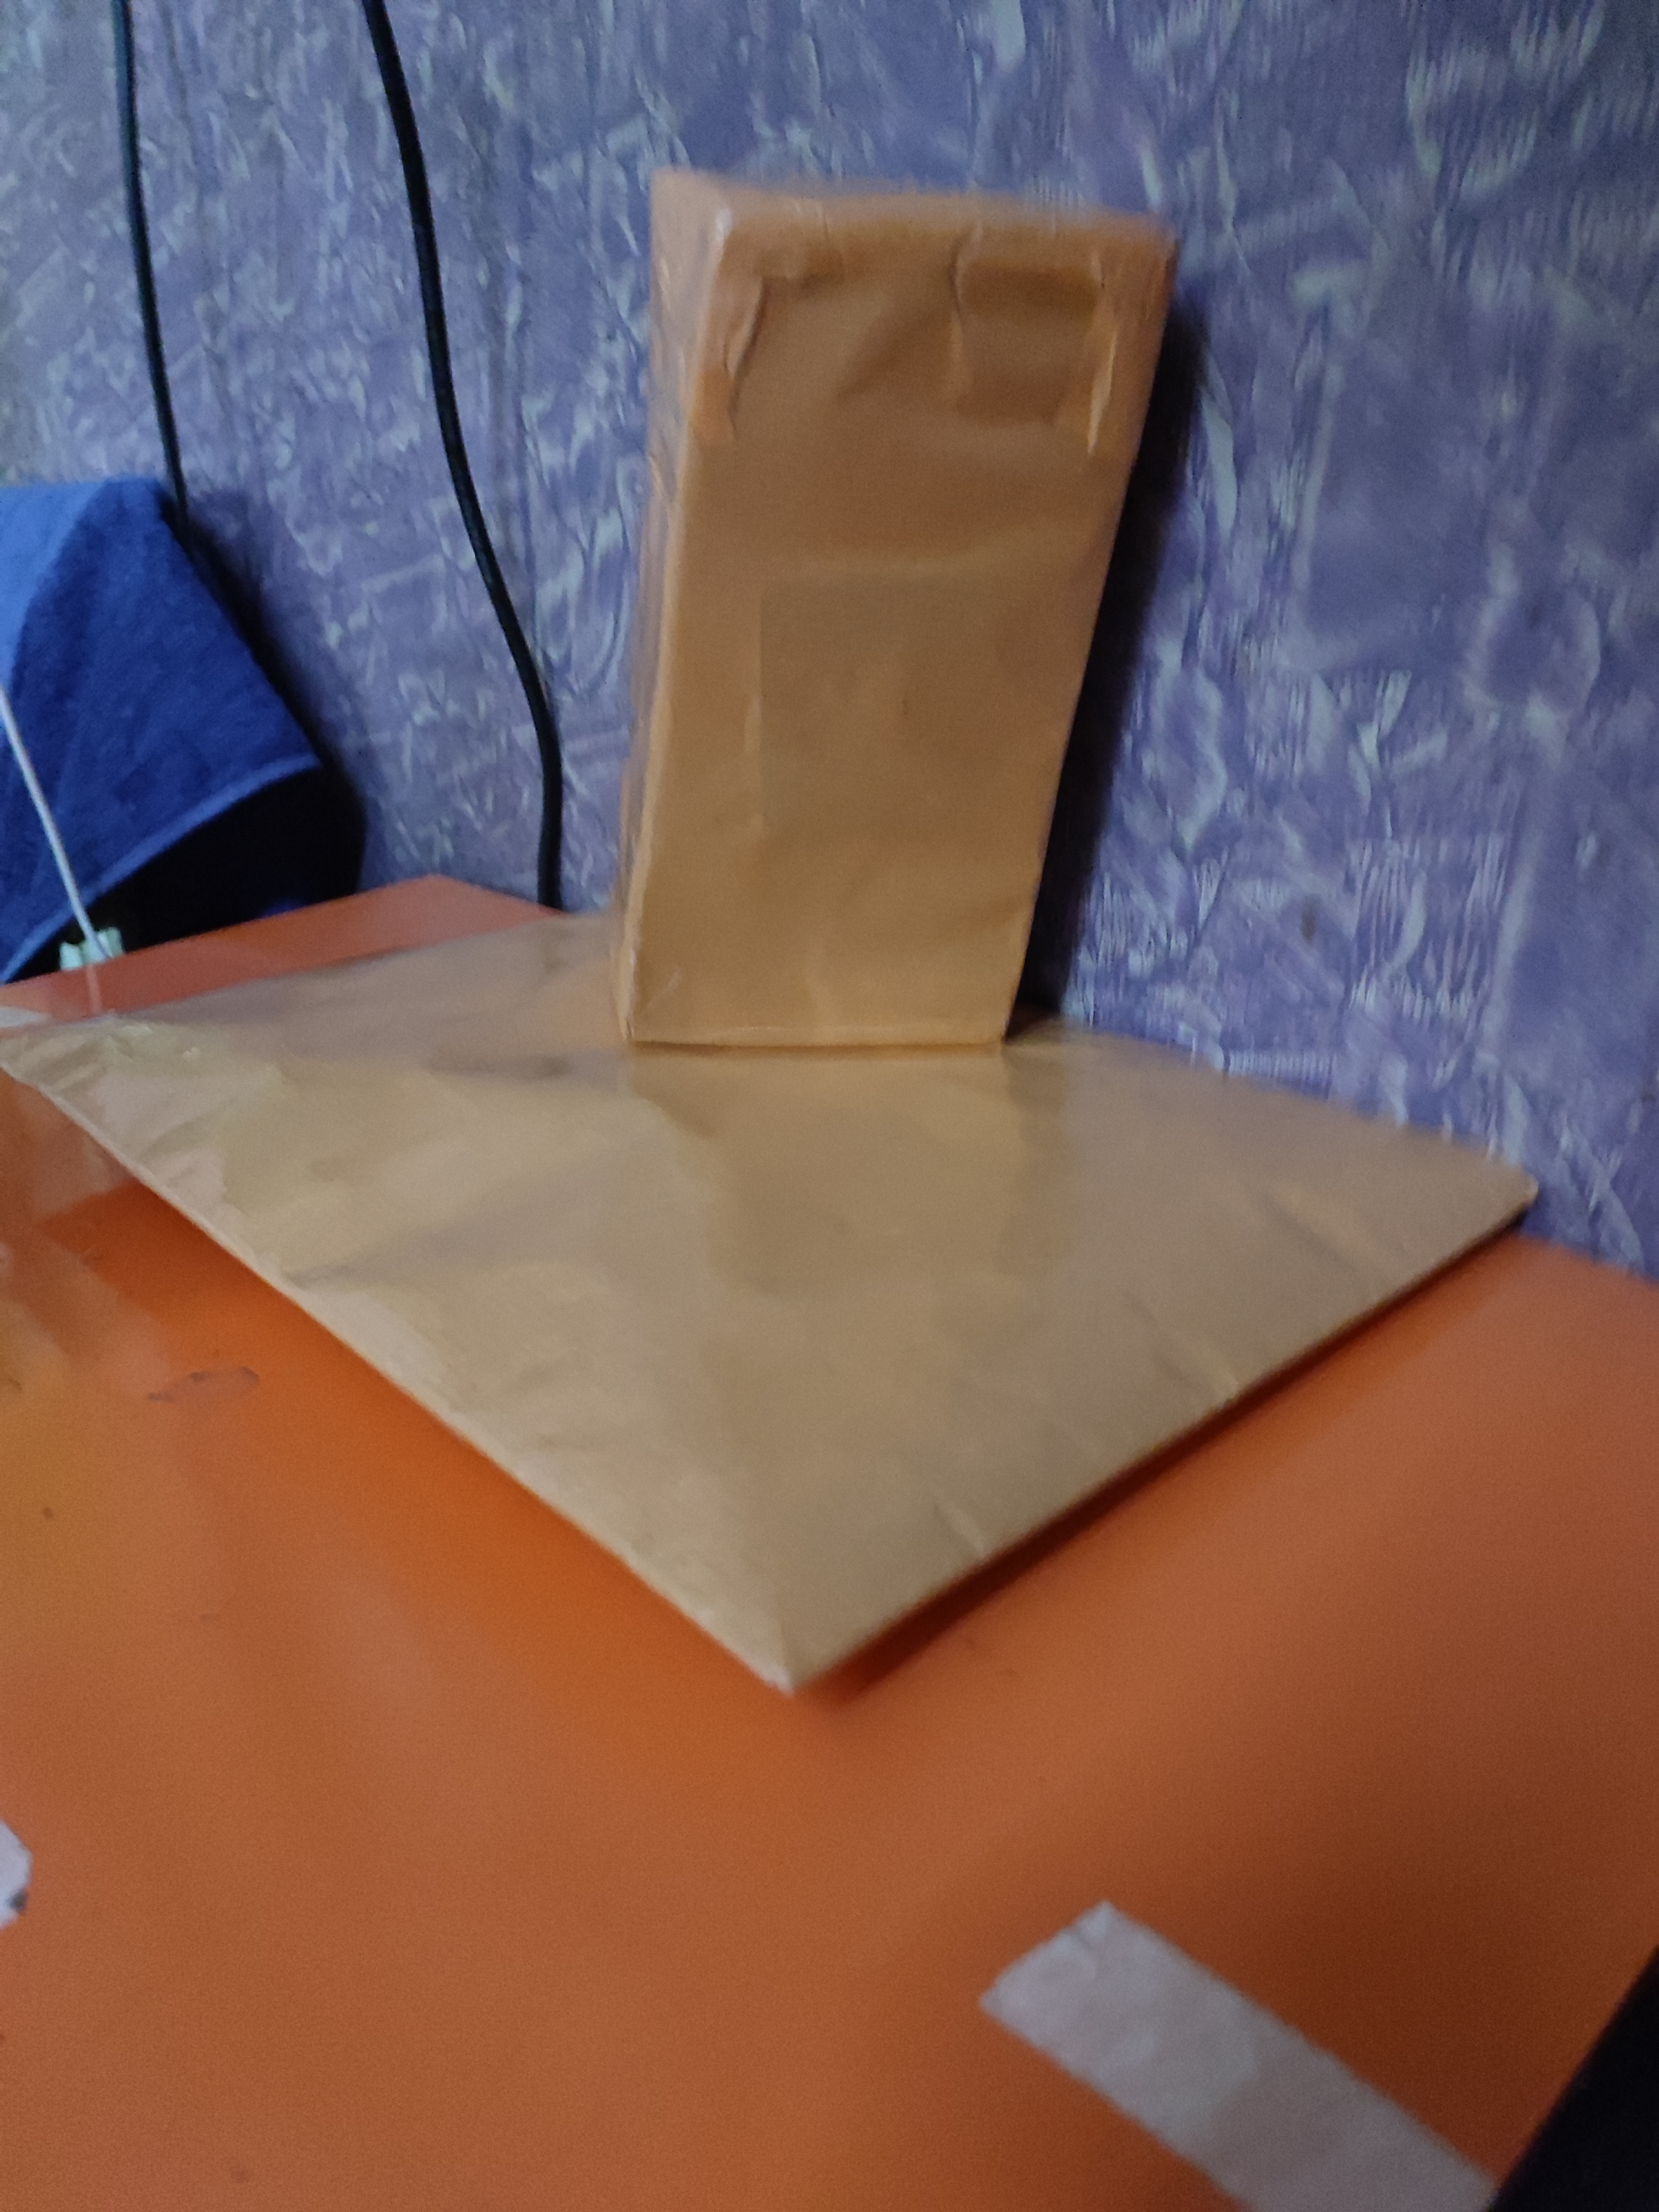Box: (85, 900, 1560, 1630), (605, 165, 1147, 1116)
